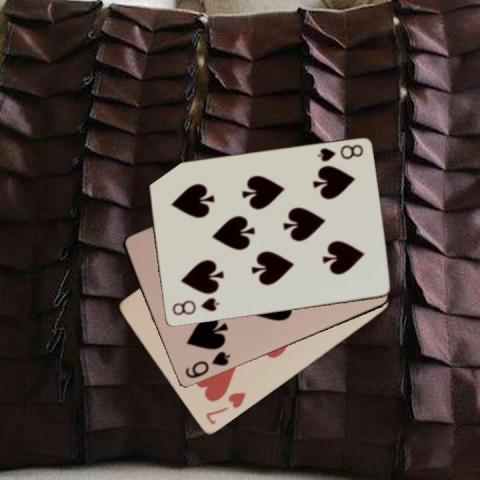6s: (182, 349, 232, 380)
7h: (203, 389, 247, 427)
8s: (168, 295, 220, 317), (314, 142, 365, 163)
